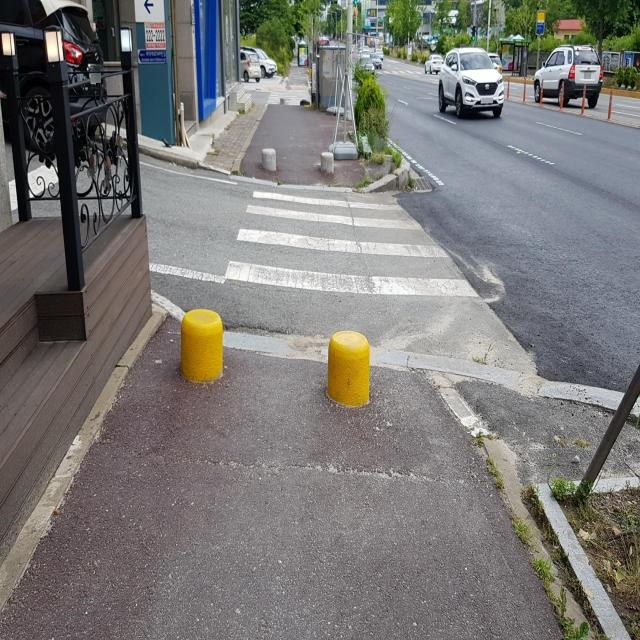횡단보도: (223, 187, 480, 300)
